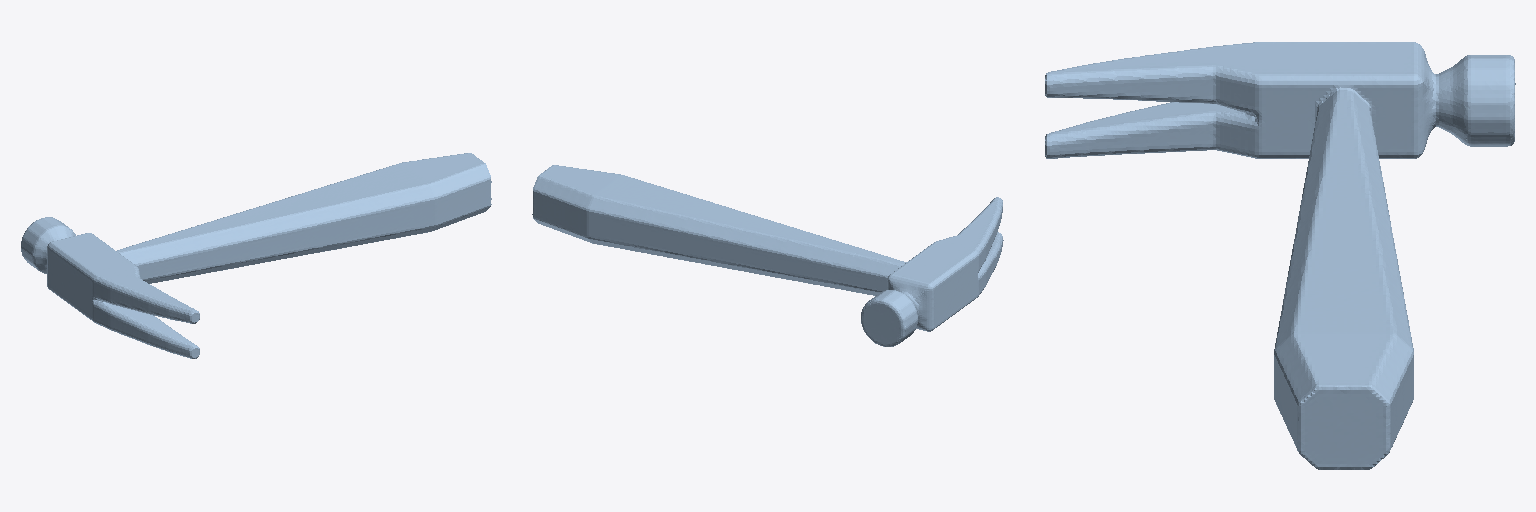
robot.urdf — hammer.urdf:
<?xml version="1.0" ?>
<robot name="hammer.urdf">
  <dynamics damping="0.5" friction="0.9"/>
  <link name="baseLink">
    <contact>
      <lateral_friction value="0.9"/>
      <rolling_friction value="0.5"/>
      <stiffness value="30000"/>
      <damping value="1000"/>
    </contact>
    <visual>
      <origin rpy="0 0 0" xyz="0 0 0"/>
      <geometry>
        <mesh filename="hammer/hammer.obj" scale="1.0 1.0 1.0"/>
      </geometry>
       <material name="mat">
        <color rgba="0.7 0.8 0.9 1"/>
      </material>
    </visual>
    <collision>
      <origin rpy="0 0 0" xyz="0 0 0"/>
      <geometry>
	 	<mesh filename="hammer/hammer.obj" scale="1.0 1.0 1.0"/>
      </geometry>
    </collision>
  </link>
</robot>

--- Facts derived from the render (not from the file) ---
Views: 3 orthographic renders of the robot side by side, from view 1: azimuth 30°, elevation 25°; view 2: azimuth 150°, elevation 25°; view 3: azimuth 270°, elevation 25°.
Model hammer.urdf with 1 links and 0 joints (none), rooted at baseLink, posed all joints at 0.
Visible links, largest first — view 1: baseLink; view 2: baseLink; view 3: baseLink.
Link boxes in pixels (left/top/right/bottom): baseLink: left=21, top=153, right=491, bottom=358; baseLink: left=532, top=165, right=1003, bottom=346; baseLink: left=1045, top=42, right=1515, bottom=469.
Size in the robot's own frame: 0.205 by 0.1172 by 0.0232 metres.
1 mesh visuals loaded from 1 distinct referenced files (1 OBJ).
